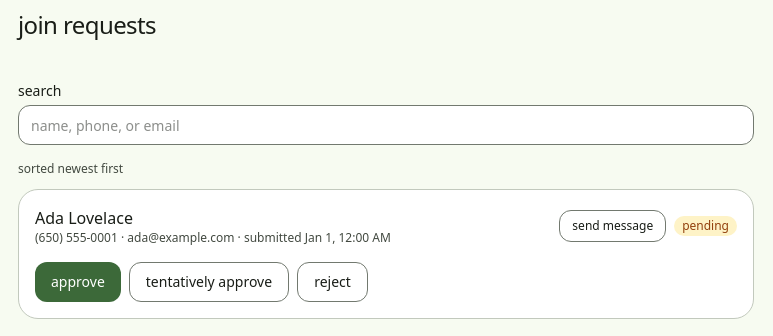
Test: JoinRequestsScreen search › shows a no-match message when the search matches nothing
Type "zzz" into the field labelled "search" at (386, 125), box [18,105,754,145]
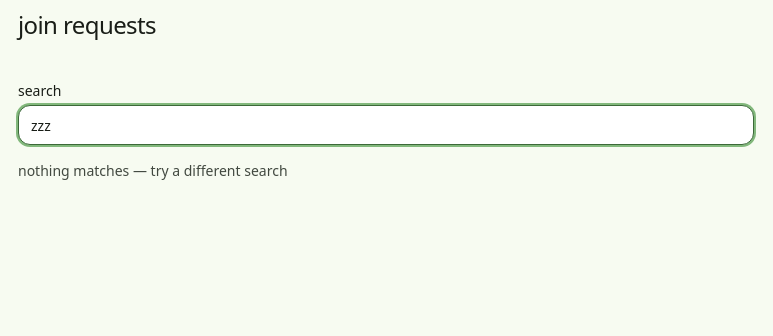
Now the text "nothing matches — try a different search" is shown, box [18,161,288,180]
